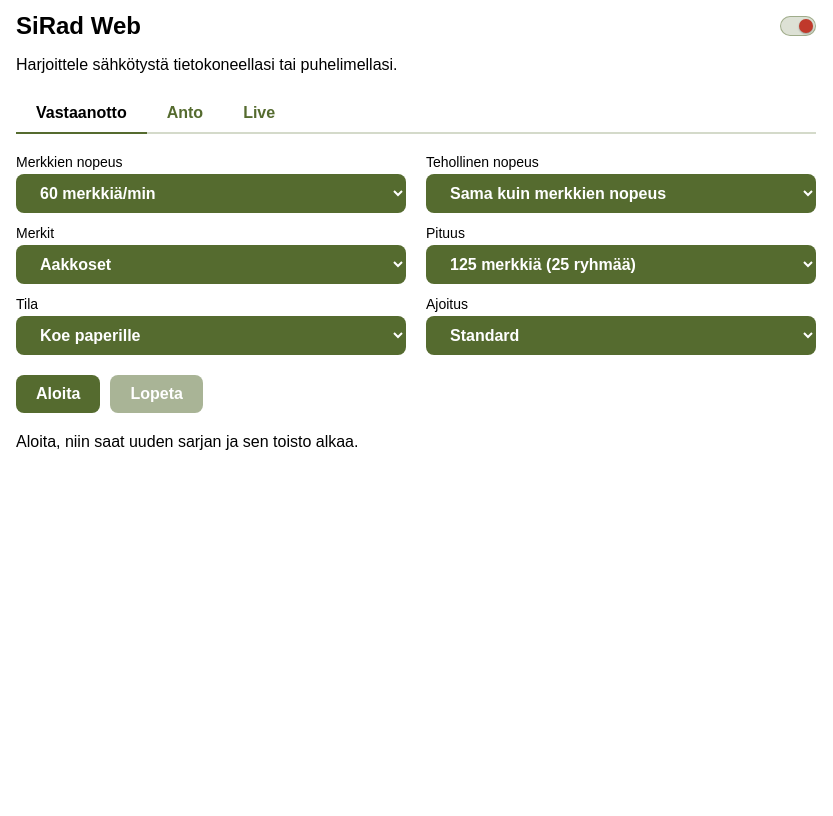
Test case: App › shows the effective speed with the message when it was slower than the character speed
Select "40 merkkiä/min" in the dropdown labelled "Tehollinen nopeus": (621, 194) [426, 174, 816, 213]
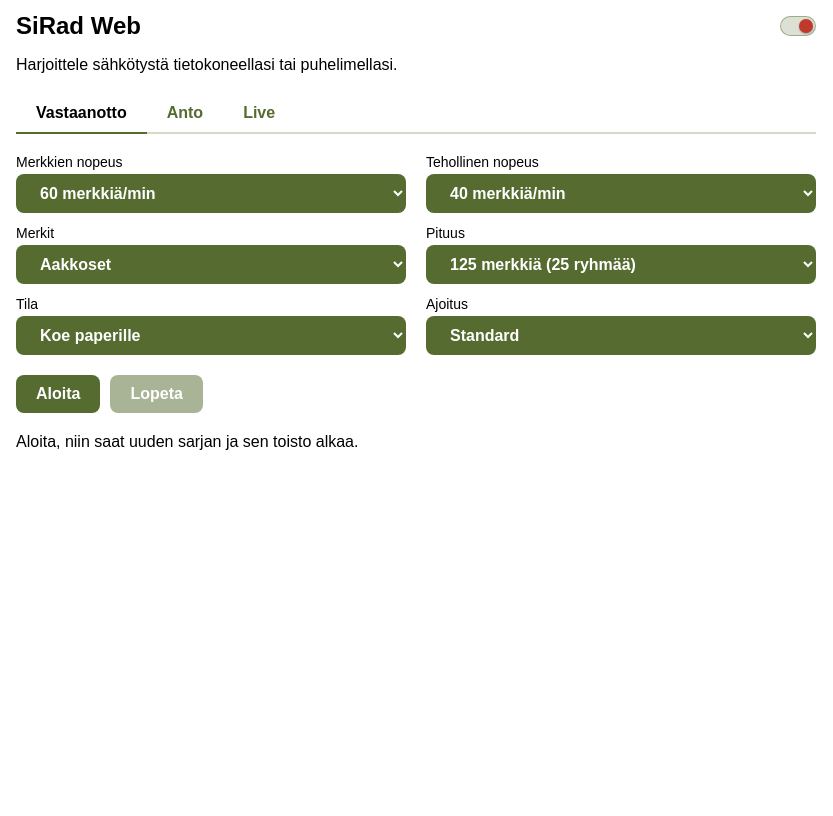
Click the button "Aloita": click(58, 394) [16, 375, 100, 413]
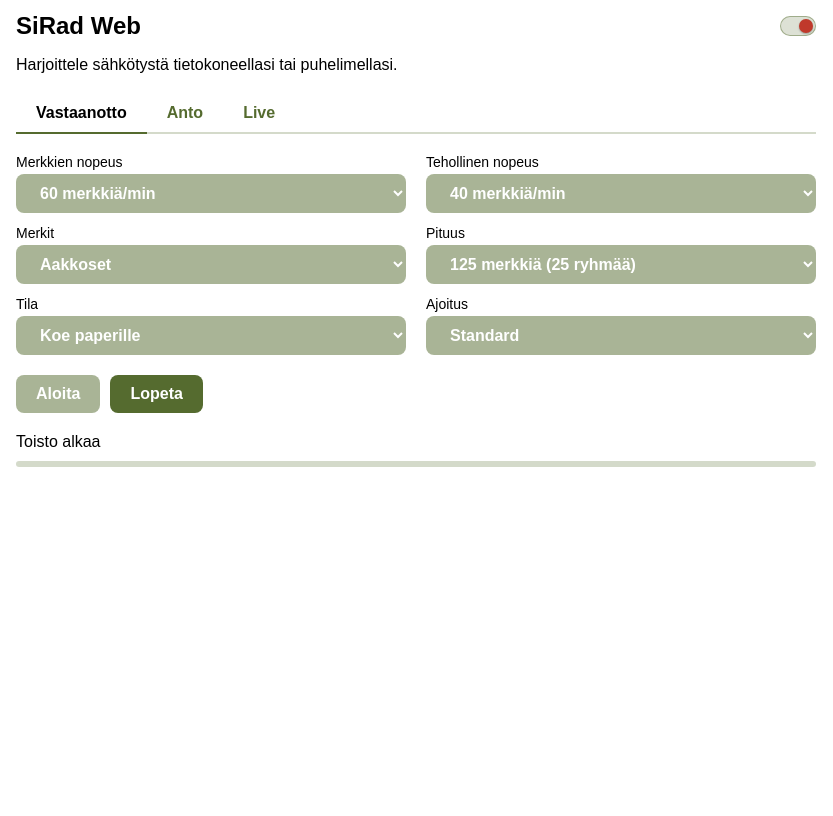
Click the button "Lopeta": click(157, 394) [110, 375, 203, 413]
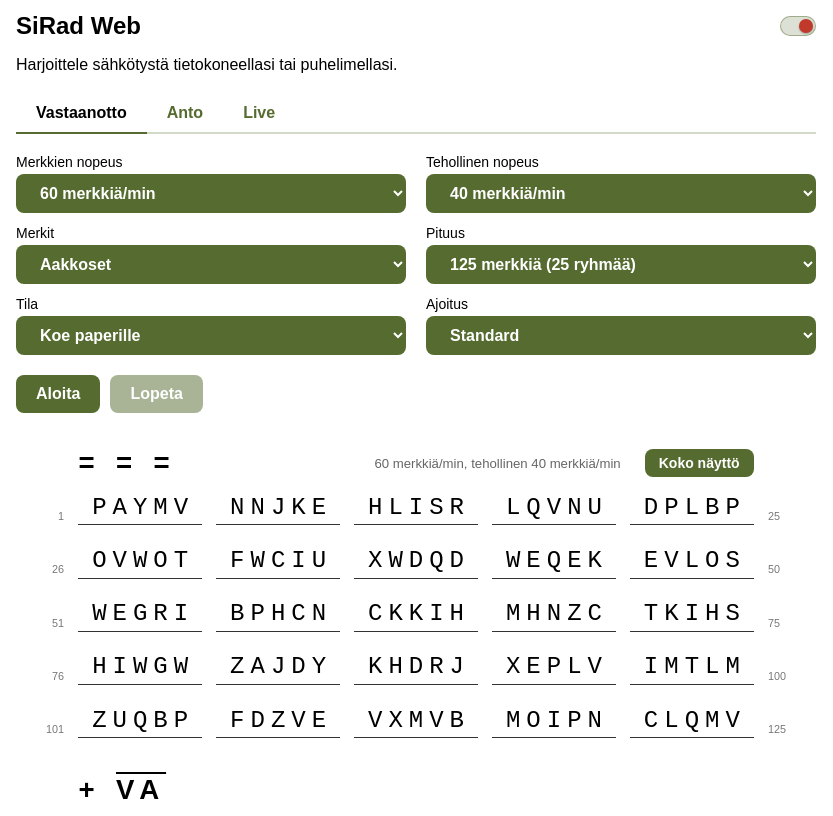
expect the text with class "Results-caption" reads "60 merkkiä/min, tehollinen 40 merkkiä/min": met, box [374, 456, 621, 471]
